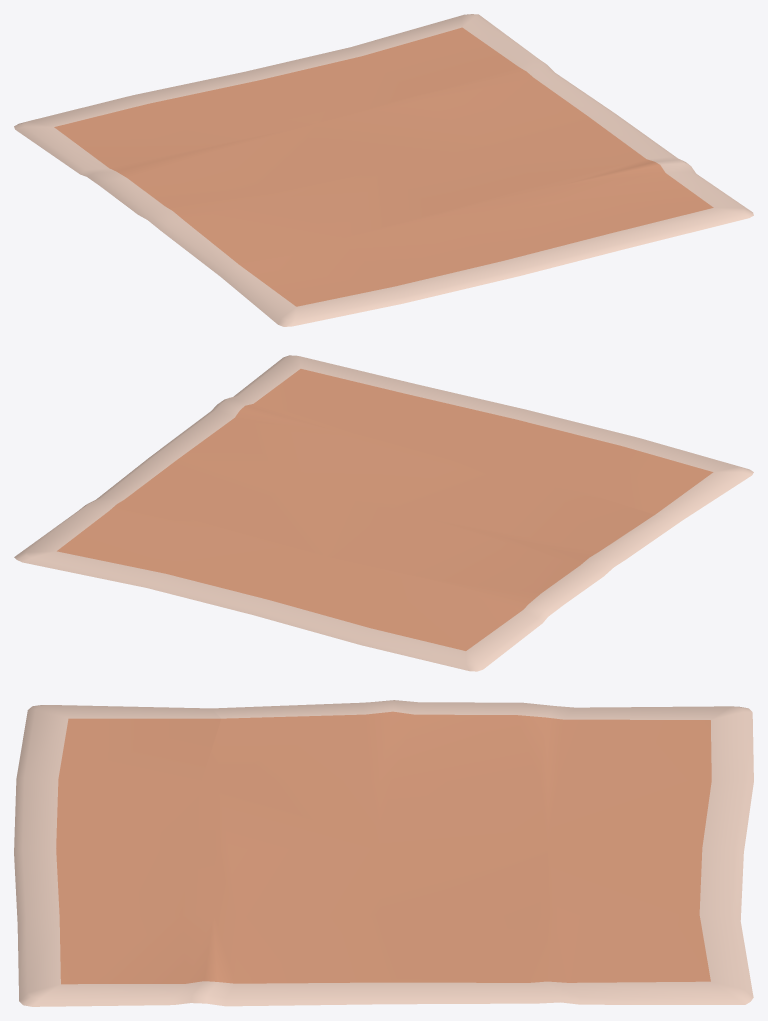
Rendered from carpet_005.fbx.
3 renders of one model, top to bottom at view 1: azimuth 30°, elevation 25°; view 2: azimuth 150°, elevation 25°; view 3: azimuth 270°, elevation 25°, orthographic. The views are drawn at different scales.
Parts seen in each view (by area): view 1: carpet_005; view 2: carpet_005; view 3: carpet_005.
Boxes of the visible parts, x1,y1,x2,y2 form: carpet_005: (14,14,753,326); carpet_005: (14,355,753,671); carpet_005: (14,700,753,1006).
Size of the model in its own units: 315 by 326 by 5.65.
